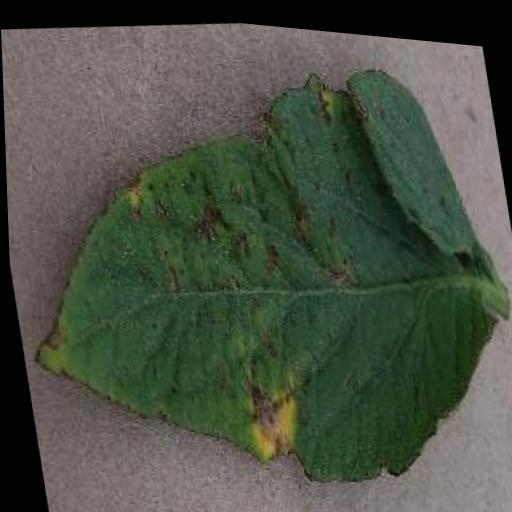Bacterial Spot: (0, 11, 512, 512)
